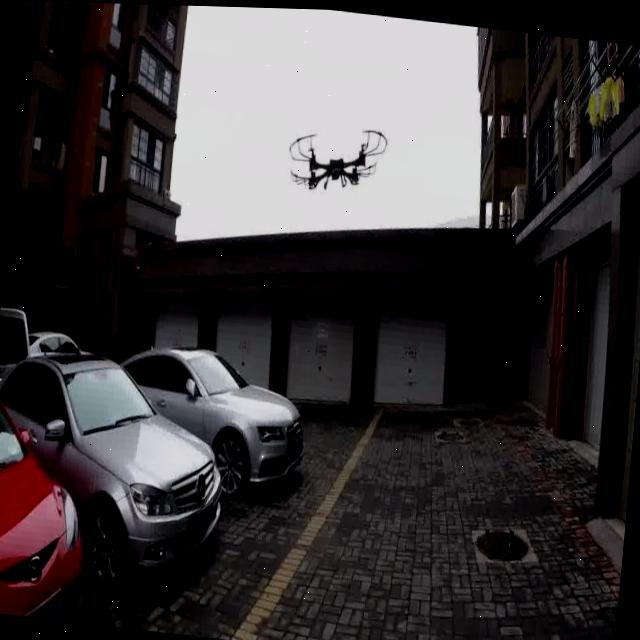drone: (262, 93, 398, 208)
